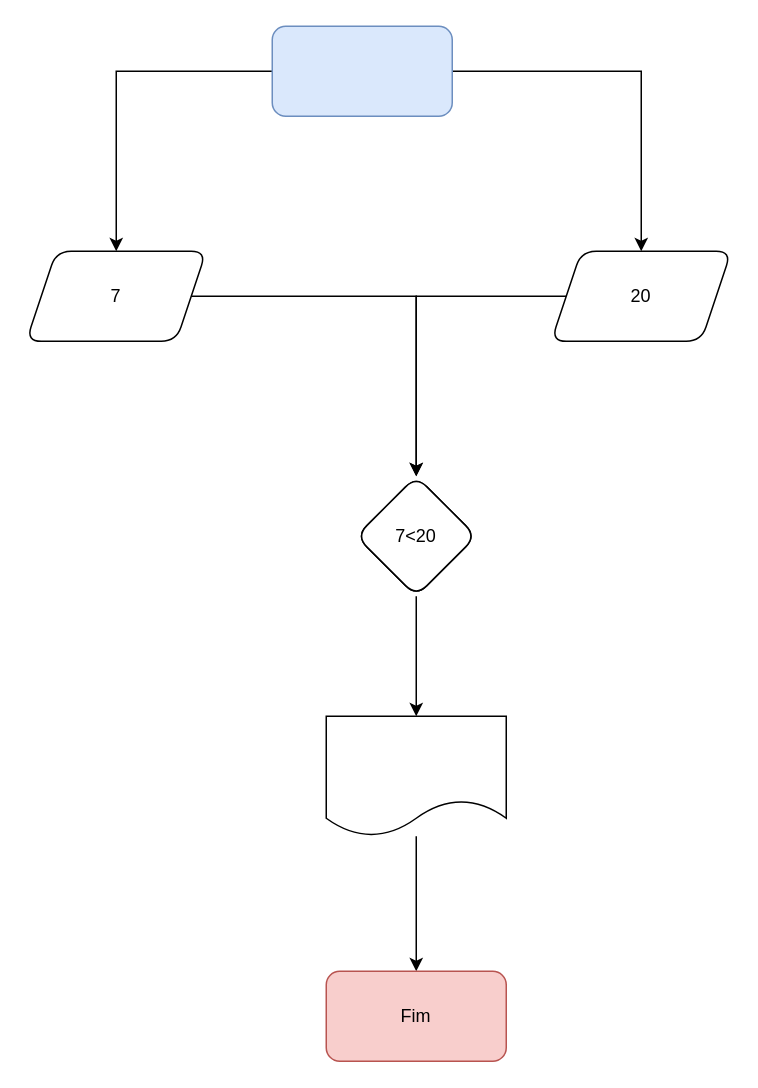
This 758x1088 diagram has some shape labels left out. The shapes that lost their labels are listed below. From the top down, each one's centre as x and y in pixels, then its label:
(x=361, y=70): Inicio
(x=415, y=775): a diferença é 13.
